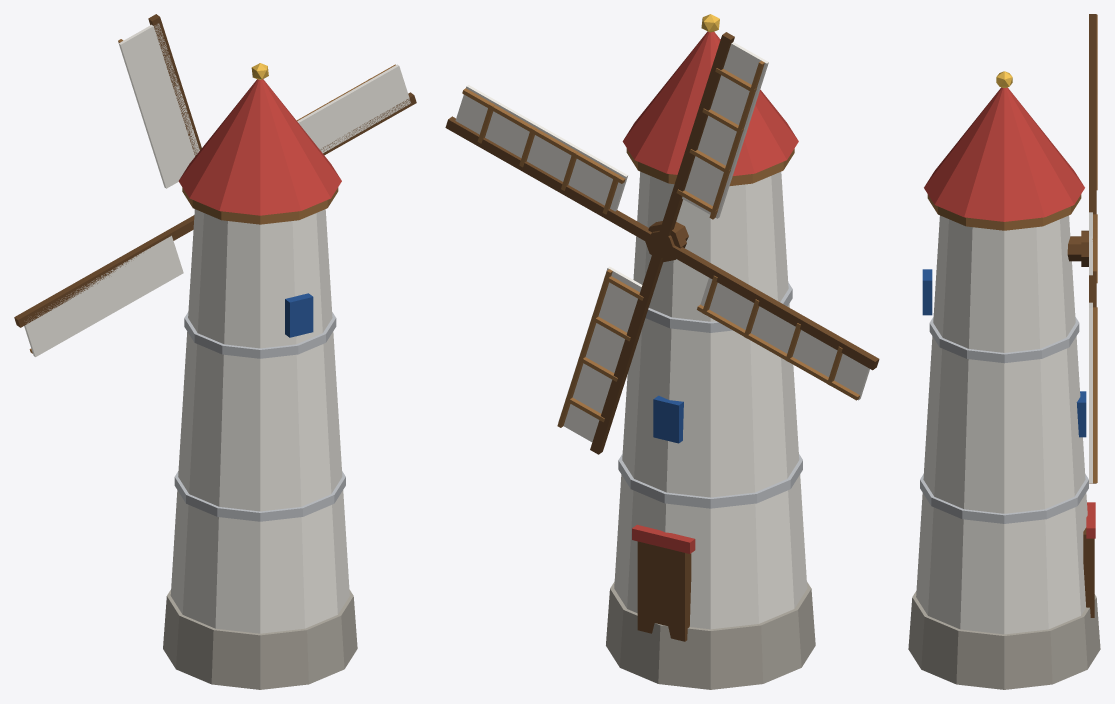
Rendered from windmill.glb.
The picture shows the model from 3 angles, left to right: view 1: azimuth 30°, elevation 25°; view 2: azimuth 150°, elevation 25°; view 3: azimuth 270°, elevation 25°; orthographic projection. The views are drawn at different scales.
Parts seen in each view (by area): view 1: windmill; view 2: windmill; view 3: windmill.
Boxes of the visible parts, x1=… form: windmill: x1=14, y1=14, x2=416, y2=689; windmill: x1=445, y1=14, x2=879, y2=689; windmill: x1=908, y1=14, x2=1100, y2=689.
Bounding box in the file's own units: 2.36 × 3.48 × 1.
1 material, 1 textured.
